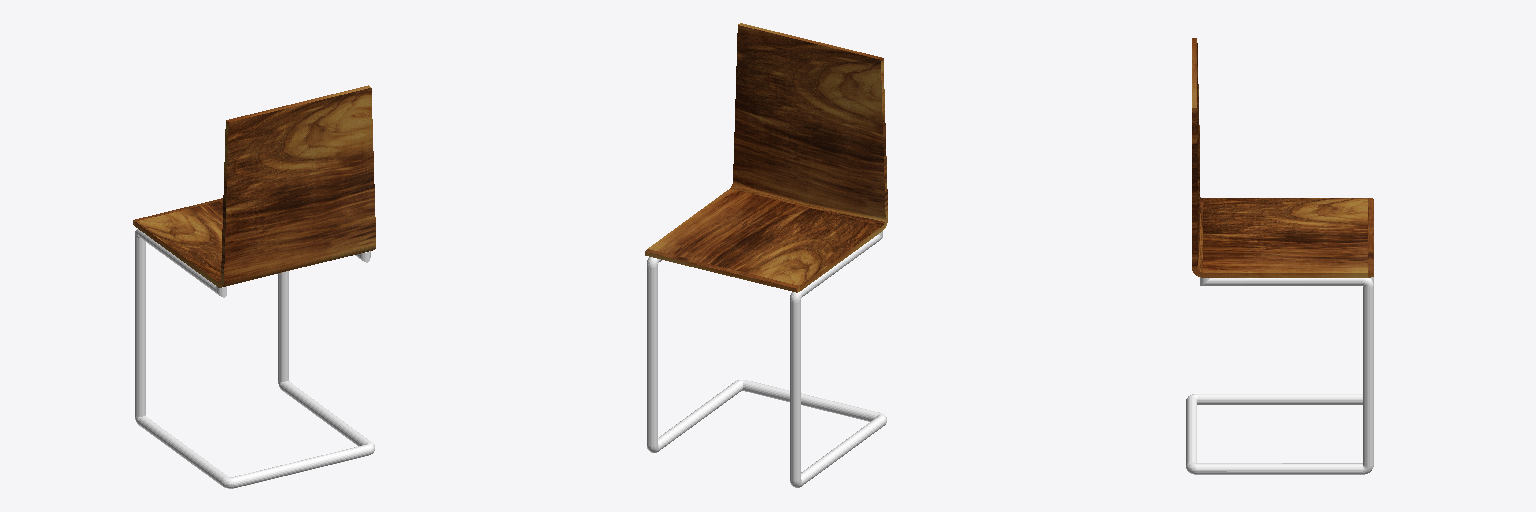
The picture shows the model from 3 angles: view 1: azimuth 30°, elevation 25°; view 2: azimuth 150°, elevation 25°; view 3: azimuth 270°, elevation 25°; orthographic projection.
Visible parts, largest first — view 1: mesh1_mesh1-geometry, mesh2_mesh2-geometry; view 2: mesh1_mesh1-geometry, mesh2_mesh2-geometry; view 3: mesh1_mesh1-geometry, mesh2_mesh2-geometry.
Part boxes in pixels (x1,y1,x2,y2): mesh1_mesh1-geometry: (133,85,375,287); mesh2_mesh2-geometry: (135,229,374,488); mesh1_mesh1-geometry: (645,23,887,292); mesh2_mesh2-geometry: (647,231,886,487); mesh1_mesh1-geometry: (1192,38,1373,277); mesh2_mesh2-geometry: (1186,277,1373,474).
Bounding box in the file's own units: 0.368 × 0.8433 × 0.3918.
Materials: 3 (1 with a texture image).